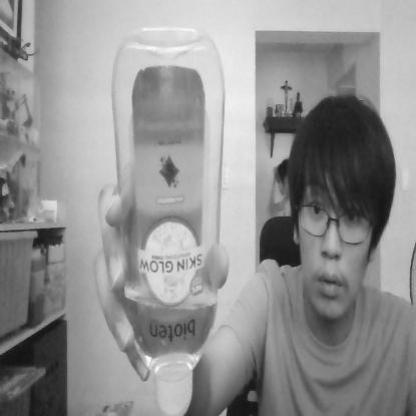Plastic Bottle: (104, 20, 224, 416)
